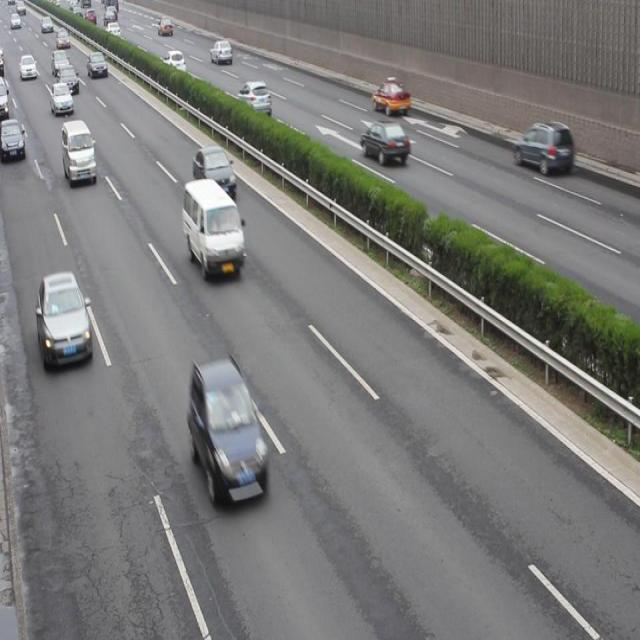car: (188, 352, 270, 503), (36, 270, 92, 365), (510, 118, 574, 178), (359, 118, 412, 168), (193, 144, 237, 197), (370, 78, 410, 119), (238, 78, 271, 119), (1, 119, 24, 163)
truck: (182, 177, 245, 278), (62, 119, 98, 184)
